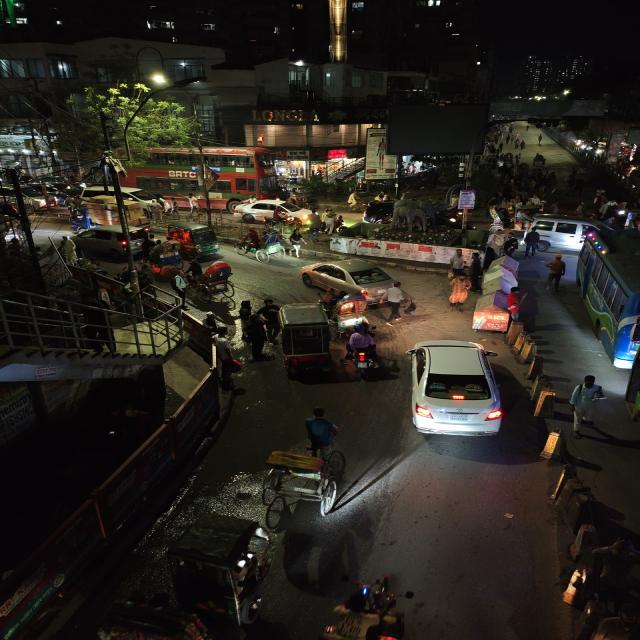bicycle: (340, 196, 368, 216)
bus: (576, 242, 640, 372), (135, 150, 283, 206)
car: (404, 337, 506, 442), (296, 256, 406, 300), (530, 211, 596, 253), (67, 226, 142, 252), (238, 199, 304, 224)
cng: (187, 224, 223, 256)
motorcycle: (342, 323, 381, 374)
pedestrian: (567, 371, 602, 437), (233, 299, 270, 361), (378, 281, 412, 324), (444, 272, 472, 311), (258, 296, 281, 336), (544, 254, 567, 291), (466, 253, 486, 291), (448, 249, 471, 279), (305, 210, 324, 242), (288, 228, 306, 258), (523, 229, 541, 258), (482, 245, 498, 271), (502, 233, 519, 255)
rickshaw: (261, 428, 355, 515), (278, 300, 334, 368), (319, 287, 372, 331), (471, 287, 519, 335), (189, 260, 241, 302), (484, 199, 526, 235)
